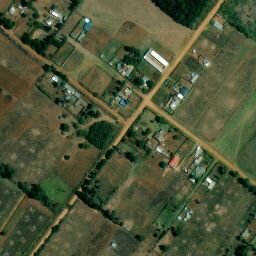tree: (134, 77, 144, 86), (146, 79, 155, 88), (59, 123, 69, 131), (42, 64, 51, 72), (243, 179, 251, 188), (129, 155, 138, 163), (137, 235, 145, 243), (159, 161, 166, 168), (162, 245, 169, 252), (78, 143, 85, 149), (232, 171, 239, 177), (64, 155, 71, 160), (93, 92, 98, 97)
